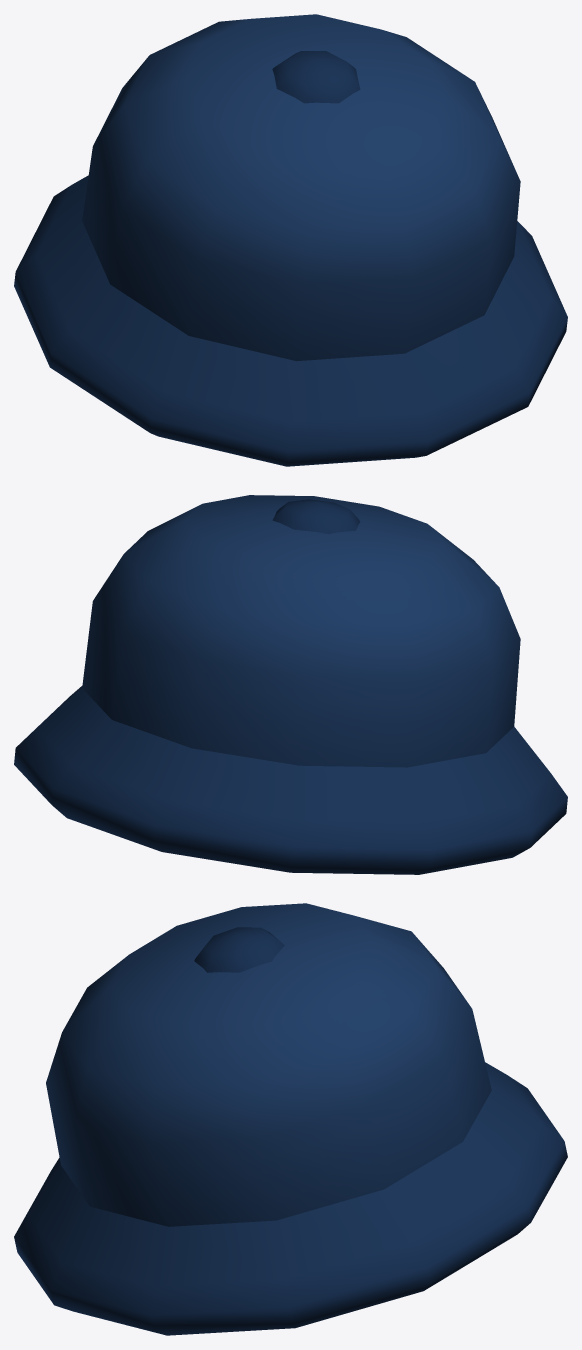
Rendered from Headgear_6.fbx.
The picture shows the model from 3 angles, top to bottom: view 1: azimuth 30°, elevation 25°; view 2: azimuth 150°, elevation 25°; view 3: azimuth 270°, elevation 25°; orthographic projection.
Visible parts, largest first — view 1: Headgear_6; view 2: Headgear_6; view 3: Headgear_6.
Boxes of the visible parts, x1,y1,x2,y2 form: Headgear_6: (14,14,567,466); Headgear_6: (14,495,567,874); Headgear_6: (14,903,567,1335).
Size of the model in its own units: 100 by 64.32 by 98.92.
